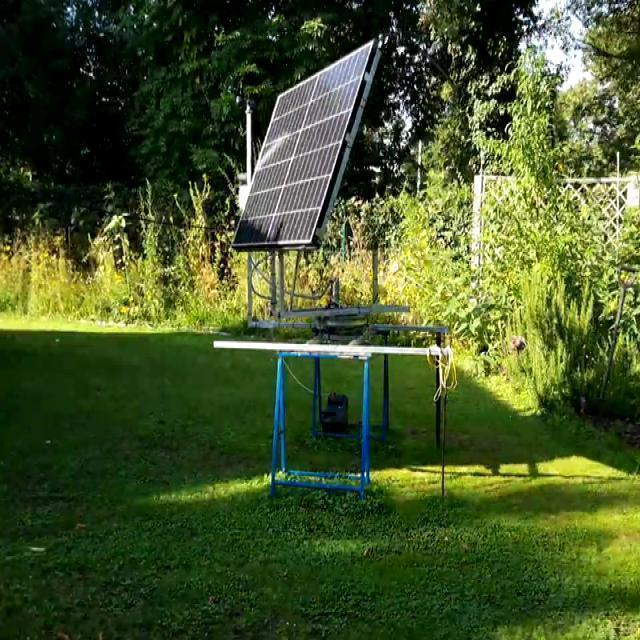Normal Solar Panel: (235, 40, 375, 248)
